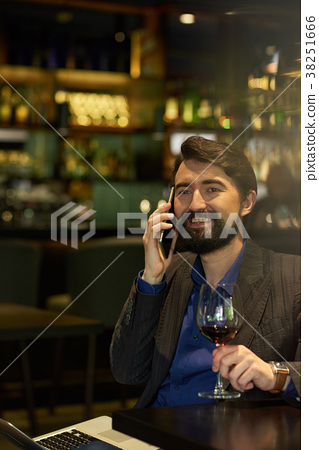phone: (154, 184, 178, 270)
talk: (134, 168, 242, 268)
